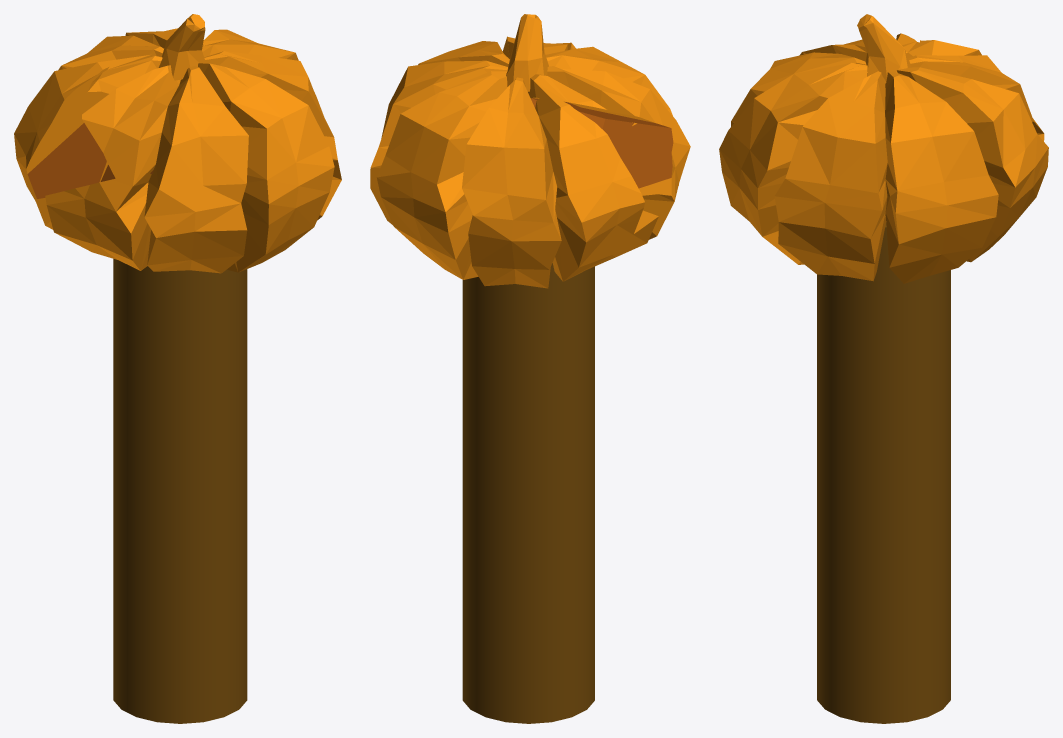
File: Pumkin_Right.fbx
3 views of the same model, side by side, from view 1: azimuth 30°, elevation 25°; view 2: azimuth 150°, elevation 25°; view 3: azimuth 270°, elevation 25° (orthographic).
Visible parts, largest first — view 1: SFM_FVC_Pumpkin, Cylinder001; view 2: SFM_FVC_Pumpkin, Cylinder001; view 3: SFM_FVC_Pumpkin, Cylinder001.
Boxes of the visible parts, left/top/right/bottom form: SFM_FVC_Pumpkin: left=14, top=14, right=341, bottom=273; Cylinder001: left=113, top=259, right=247, bottom=723; SFM_FVC_Pumpkin: left=370, top=14, right=690, bottom=288; Cylinder001: left=462, top=263, right=594, bottom=723; SFM_FVC_Pumpkin: left=719, top=14, right=1048, bottom=283; Cylinder001: left=817, top=222, right=950, bottom=723.
Bounding box in the file's own units: 60.71 × 61.52 × 140.
Materials: 1 (1 with a texture image).
